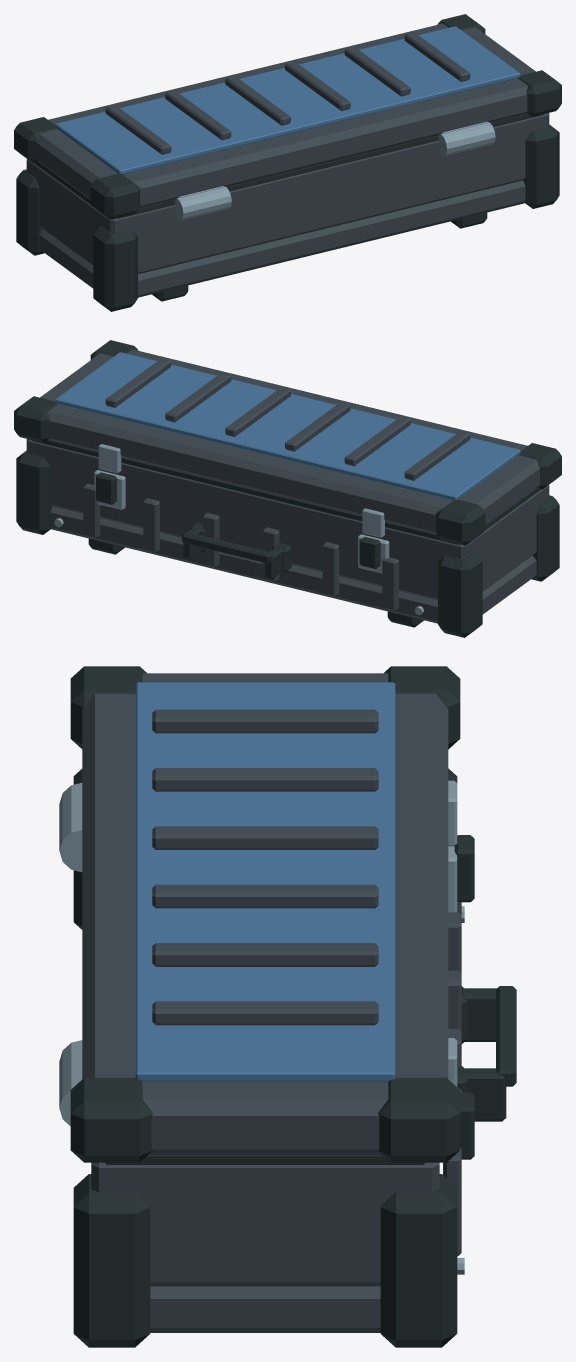
Rendered from long_equipment_case.glb.
3 renders of one model, top to bottom at view 1: azimuth 30°, elevation 25°; view 2: azimuth 150°, elevation 25°; view 3: azimuth 270°, elevation 25°, orthographic. The views are drawn at different scales.
Parts seen in each view (by area): view 1: body_back_wall, moving_lid_inset, moving_lid_shell, body_floor, corner_guard (×3), moving_lid_rib (×6), moving_lid_corner (×4), body_left_wall, hinge_body (×2), gasket_back; view 2: moving_lid_inset, moving_lid_shell, body_front_wall, corner_guard (×3), body_floor, moving_lid_rib (×6), moving_lid_corner (×4), body_reinforcement (×6), body_left_wall, gasket_front, latch_release (×2), moving_latch_hook (×2) (+3 smaller); view 3: moving_lid_inset, moving_lid_shell, moving_lid_rib (×6), body_right_wall, corner_guard (×2), moving_lid_corner (×4), body_floor, hinge_body (×2), gasket_side, body_reinforcement (×3), latch_release (×2), carry_handle_bar (+2 smaller).
Part boxes in pixels (x1,y1,x2,y2): body_back_wall: [104, 114, 547, 274]; moving_lid_inset: [55, 26, 520, 174]; moving_lid_shell: [36, 23, 535, 208]; body_floor: [39, 180, 525, 297]; corner_guard (×3): [16, 124, 559, 311]; moving_lid_rib (×6): [105, 32, 470, 154]; moving_lid_corner (×4): [14, 14, 561, 219]; body_left_wall: [26, 159, 124, 265]; hinge_body (×2): [175, 122, 495, 220]; gasket_back: [117, 114, 543, 218]; moving_lid_inset: [55, 352, 520, 500]; moving_lid_shell: [40, 349, 539, 534]; body_front_wall: [28, 440, 467, 600]; corner_guard (×3): [16, 450, 559, 637]; body_floor: [50, 506, 536, 623]; moving_lid_rib (×6): [105, 358, 470, 480]; moving_lid_corner (×4): [14, 340, 561, 545]; body_reinforcement (×6): [83, 483, 398, 611]; body_left_wall: [451, 485, 549, 591]; gasket_front: [32, 440, 458, 544]; latch_release (×2): [96, 472, 380, 568]; moving_latch_hook (×2): [98, 444, 384, 537]; moving_lid_inset: [135, 682, 395, 1081]; moving_lid_shell: [82, 673, 448, 1154]; moving_lid_rib (×6): [152, 709, 378, 1025]; body_right_wall: [91, 1162, 439, 1286]; corner_guard (×2): [73, 1174, 457, 1347]; moving_lid_corner (×4): [70, 666, 460, 1162]; body_floor: [150, 1286, 380, 1332]; hinge_body (×2): [59, 782, 82, 1125]; gasket_side: [105, 1155, 425, 1164]; body_reinforcement (×3): [443, 912, 461, 1256]; latch_release (×2): [454, 835, 474, 1159]; carry_handle_bar: [496, 986, 516, 1086].
Size of the model in its own units: 1.79 by 0.5525 by 0.7745.
